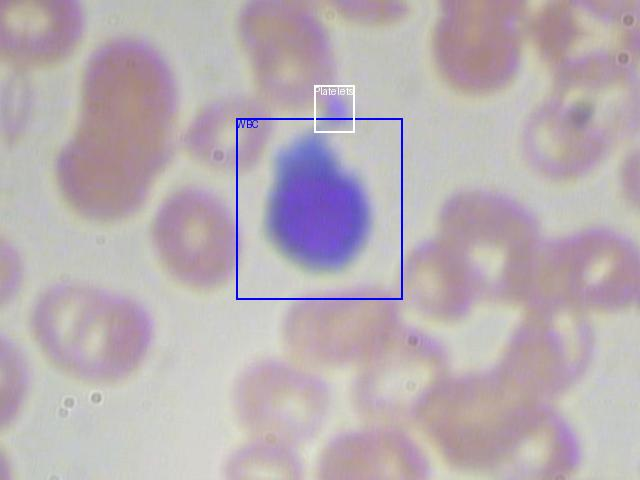Platelets: (314, 85, 354, 132)
WBC: (236, 118, 402, 299)
